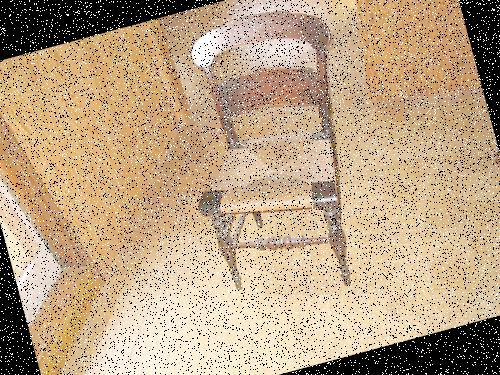Silla: (154, 0, 395, 311)
